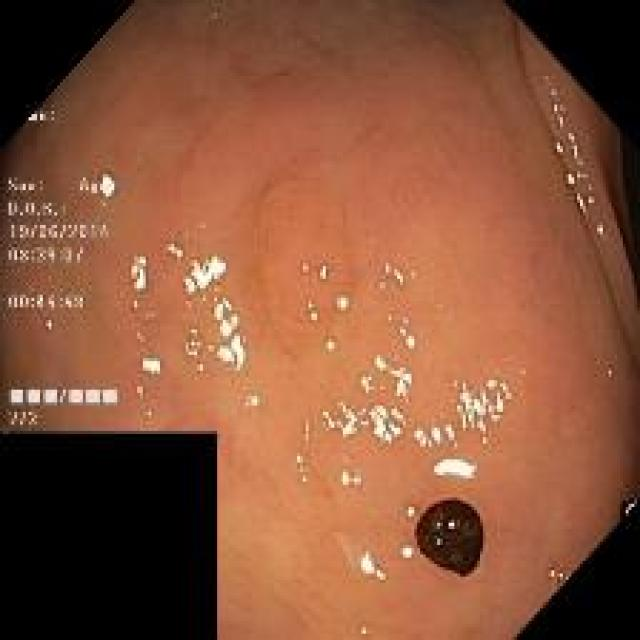Polyps: (258, 180, 352, 357)
